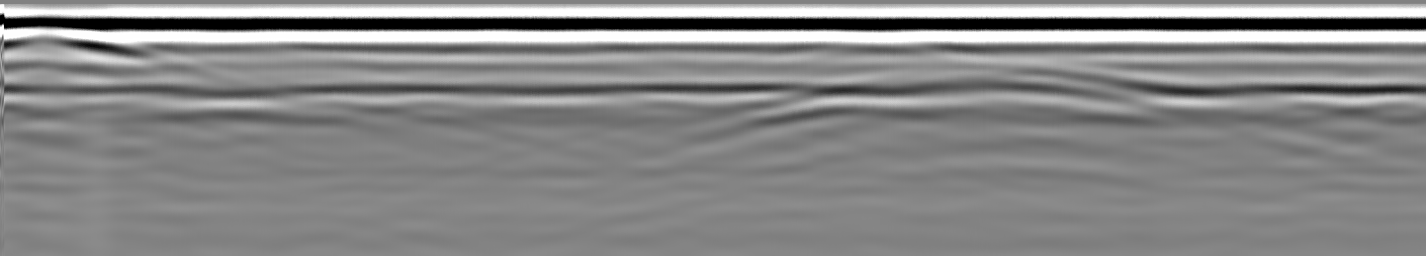pipe: (4, 15, 133, 58)
